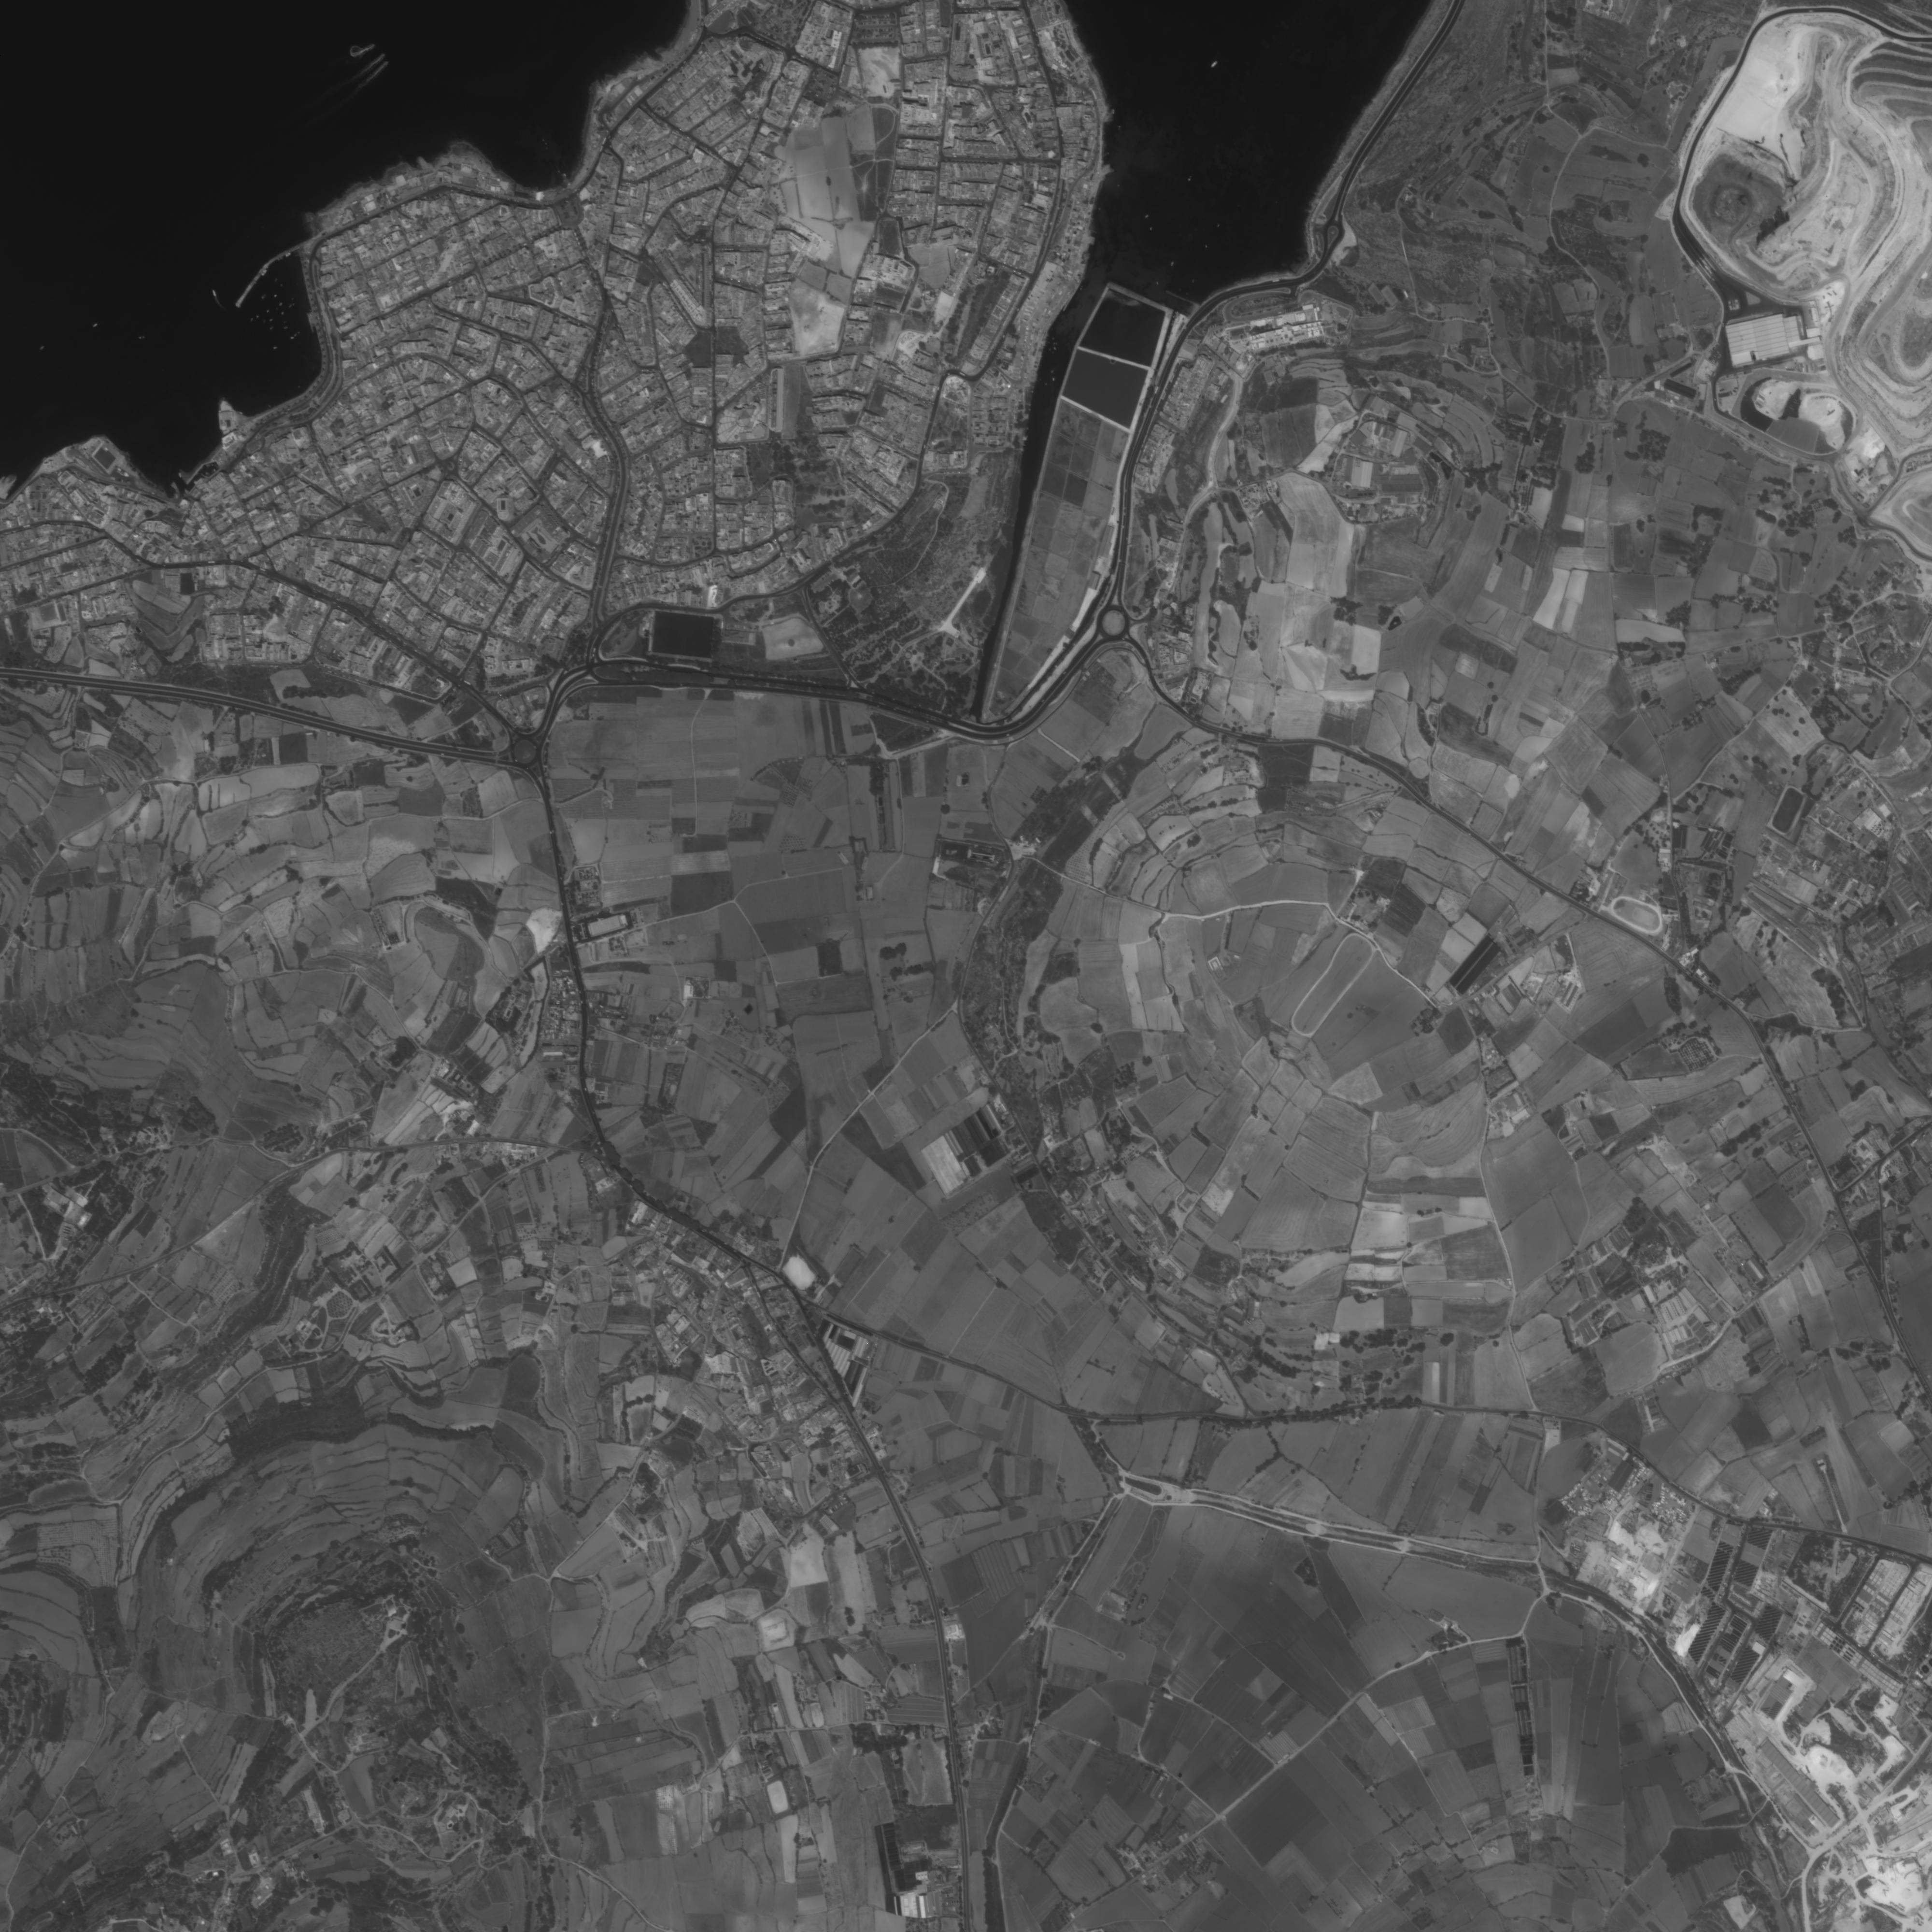harbor: (226, 242, 301, 313)
